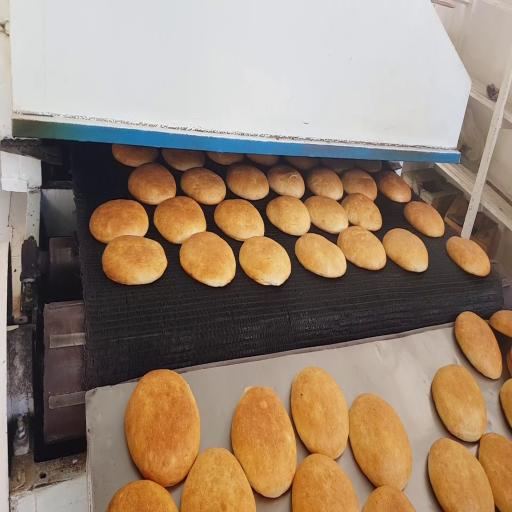bread: (125, 370, 200, 486), (231, 387, 296, 497), (350, 394, 412, 490), (291, 367, 348, 459), (180, 448, 256, 511), (428, 439, 494, 511), (432, 365, 486, 441), (292, 454, 359, 511), (455, 312, 502, 379), (102, 236, 167, 284), (180, 232, 235, 286), (478, 433, 511, 511), (239, 237, 291, 285), (154, 196, 206, 244), (90, 200, 148, 243), (295, 233, 346, 277), (107, 480, 177, 511), (338, 226, 386, 270), (214, 199, 264, 241), (383, 229, 428, 272), (128, 164, 176, 204), (266, 196, 310, 236), (447, 237, 490, 276), (305, 196, 348, 234), (181, 168, 226, 204), (226, 165, 269, 200), (342, 193, 382, 230), (404, 202, 444, 237), (362, 485, 415, 511), (267, 165, 305, 198), (307, 167, 343, 200), (342, 169, 377, 201), (112, 144, 158, 167), (378, 172, 411, 202), (162, 149, 205, 171), (489, 310, 512, 338), (500, 379, 511, 427), (320, 158, 353, 173), (207, 152, 243, 165), (286, 156, 319, 170), (247, 155, 279, 166), (354, 160, 381, 172), (506, 349, 511, 376)
